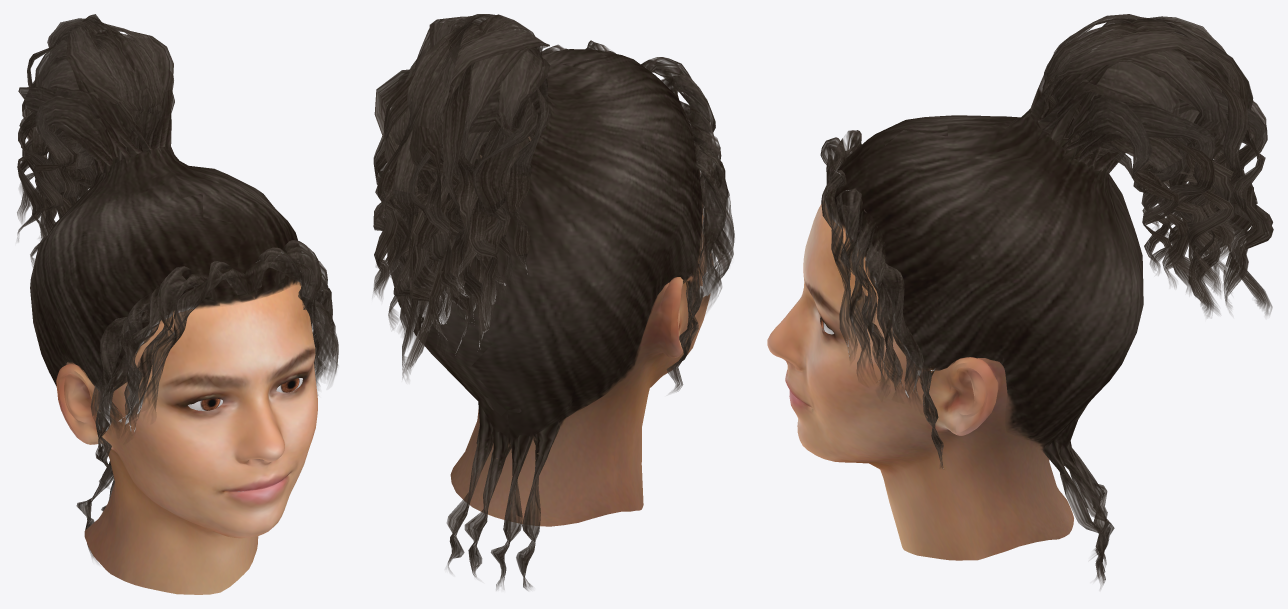
File: zenda_3d_head.glb
3 renders of one model, left to right at view 1: azimuth 30°, elevation 25°; view 2: azimuth 150°, elevation 25°; view 3: azimuth 270°, elevation 25°, orthographic. The views are drawn at different scales.
Visible parts, largest first — view 1: Object_2; view 2: Object_2; view 3: Object_2.
Part boxes in pixels (left/top/right/bottom): Object_2: left=17, top=14, right=338, bottom=594; Object_2: left=373, top=14, right=734, bottom=590; Object_2: left=767, top=14, right=1273, bottom=588.
Size of the model in its own units: 0.1861 by 0.3881 by 0.3184.
Materials: 1 (1 with a texture image).
